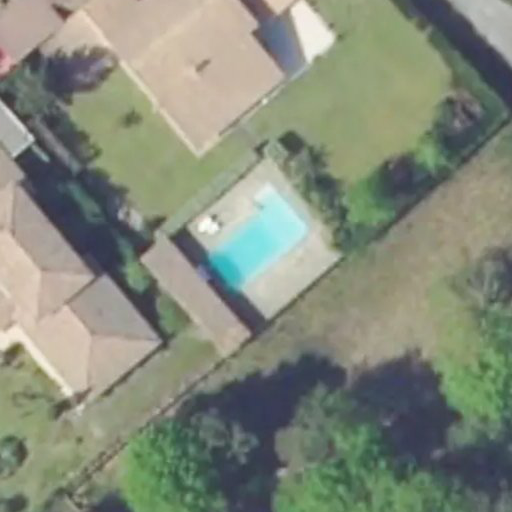pool: (201, 185, 303, 294)
